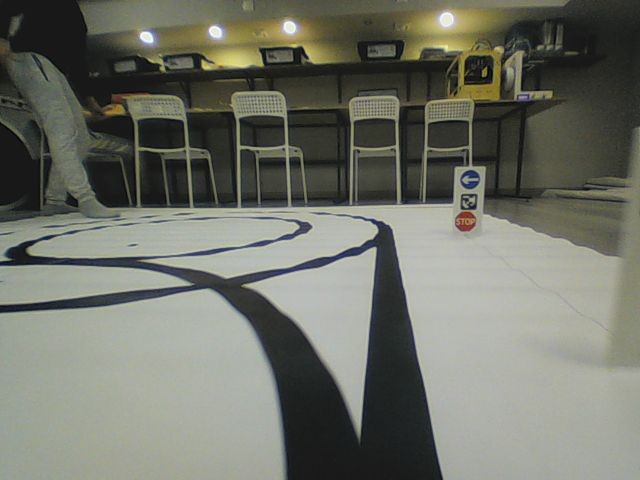Stop: (454, 210, 477, 232)
